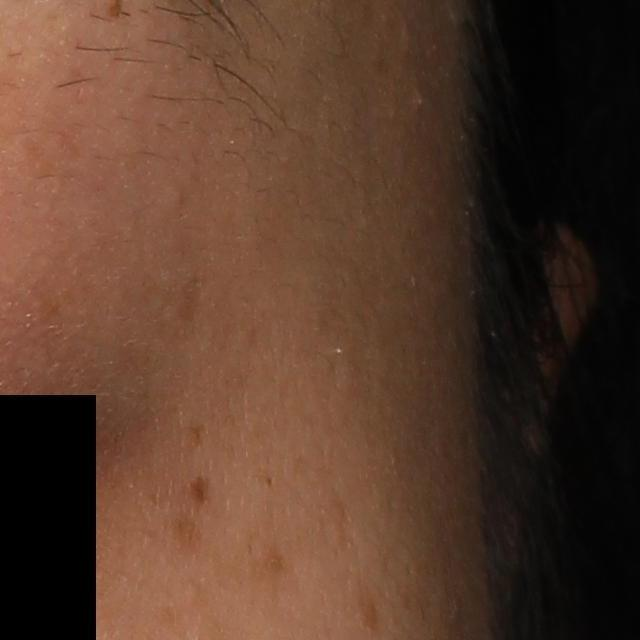melasma: (357, 574, 383, 640), (164, 520, 202, 553)
